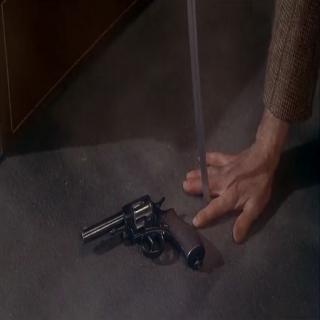gun: (78, 181, 209, 284)
